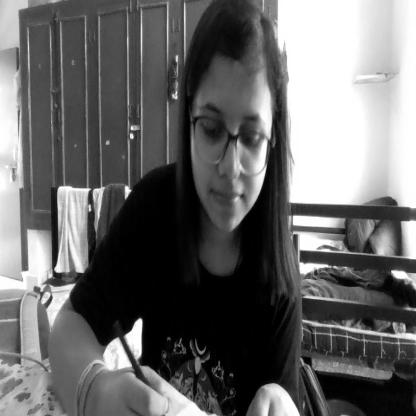Normal: (186, 0, 289, 242)
